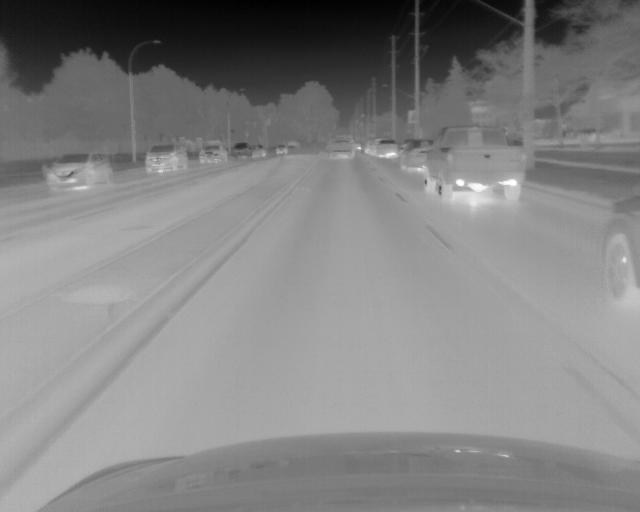car: (422, 126, 528, 202), (598, 193, 640, 305), (47, 152, 113, 189), (144, 144, 187, 172), (398, 141, 426, 168), (328, 137, 355, 160), (198, 145, 226, 163), (376, 139, 396, 158), (231, 142, 251, 159), (255, 144, 266, 157), (275, 145, 288, 155)
